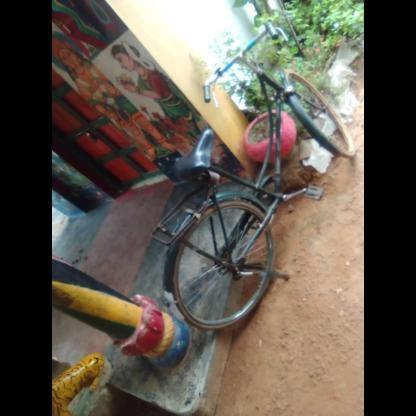Bicycle: (108, 86, 340, 352)
